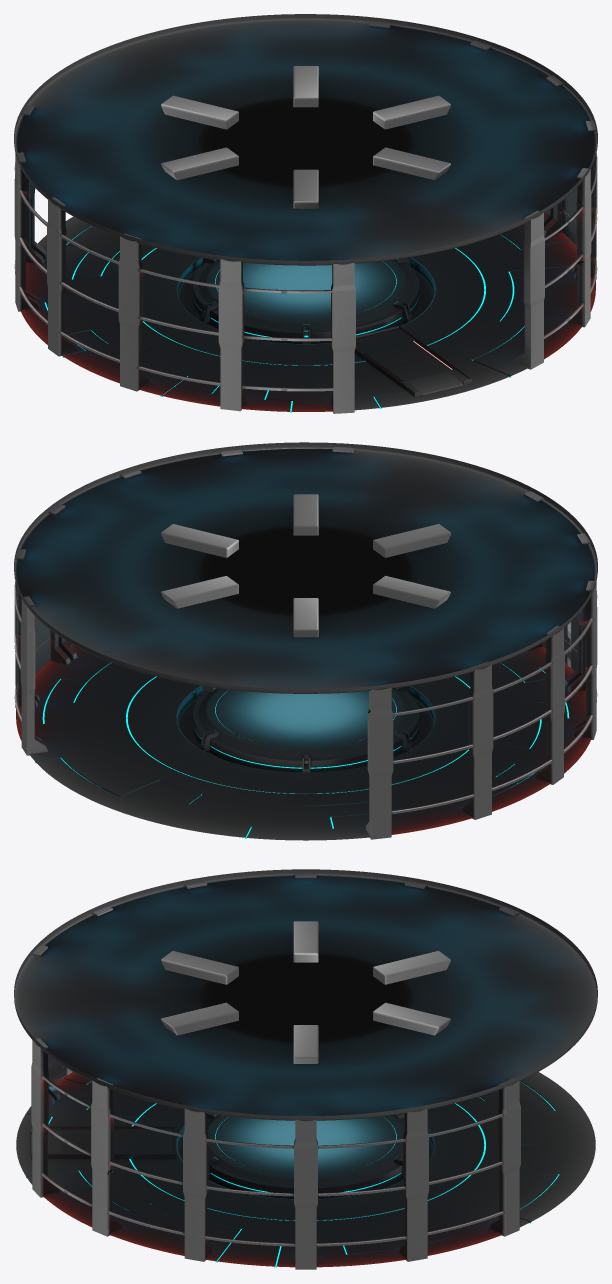
Rendered from room.gltf.
3 views of the same model, one above another, from view 1: azimuth 30°, elevation 25°; view 2: azimuth 150°, elevation 25°; view 3: azimuth 270°, elevation 25° (orthographic).
Visible parts, largest first — view 1: Black_Ground, Black_Wall, Black_LightUpper, Emissive_Cyan; view 2: Black_Ground, Black_Wall, Black_LightUpper, Emissive_Cyan; view 3: Black_Ground, Black_Wall, Black_LightUpper, Emissive_Cyan.
Part boxes in pixels (<box>): Black_Ground: <box>14,14,597,411</box>; Black_Wall: <box>14,21,597,413</box>; Black_LightUpper: <box>161,66,450,208</box>; Emissive_Cyan: <box>44,226,524,412</box>; Black_Ground: <box>14,442,597,840</box>; Black_Wall: <box>14,447,597,839</box>; Black_LightUpper: <box>161,494,450,637</box>; Emissive_Cyan: <box>35,664,569,838</box>; Black_Ground: <box>14,869,597,1267</box>; Black_Wall: <box>31,873,520,1269</box>; Black_LightUpper: <box>161,921,450,1063</box>; Emissive_Cyan: <box>26,1078,559,1267</box>.
Size of the model in its own units: 39.76 by 12.38 by 39.74.
6 materials, 4 textured.
